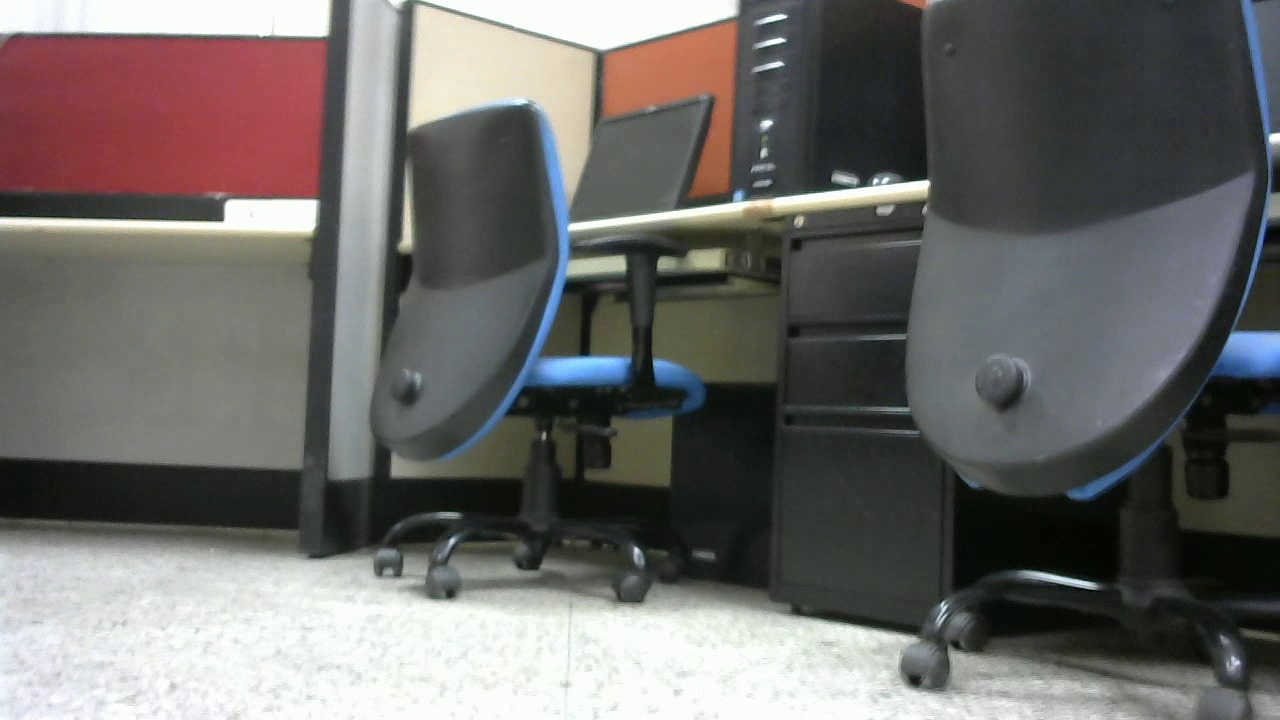chair: (366, 95, 718, 609)
